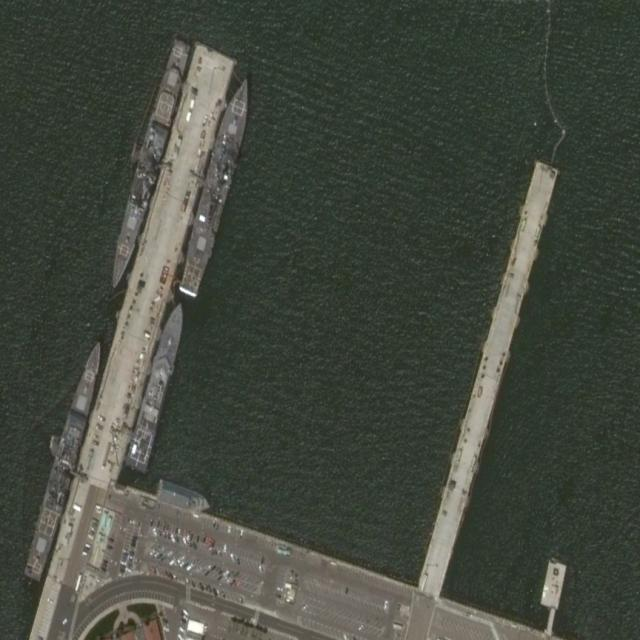Cruiser: (104, 33, 192, 294), (20, 336, 108, 585)
Destroyer: (176, 69, 258, 299)
Other Ship: (124, 295, 189, 475)
Other Warship: (156, 477, 213, 516)
